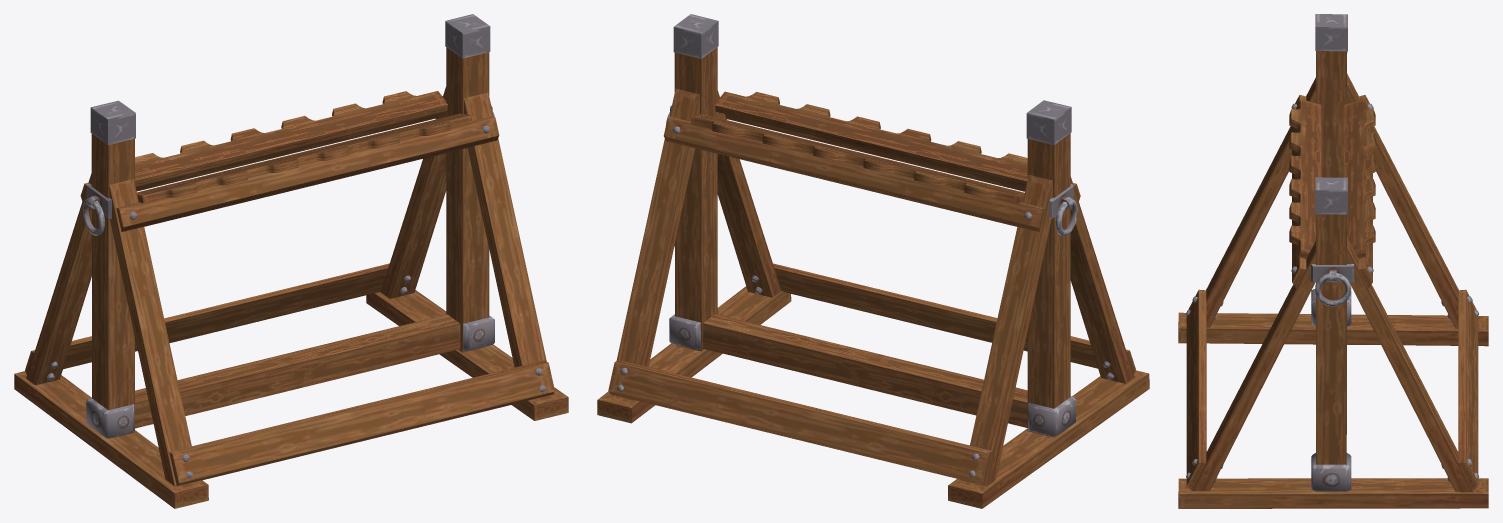
The model's file is weapon-stand.glb.
3 views of the same model, side by side, from view 1: azimuth 30°, elevation 25°; view 2: azimuth 150°, elevation 25°; view 3: azimuth 270°, elevation 25° (orthographic). The views are drawn at different scales.
Visible parts, largest first — view 1: WeaponStand; view 2: WeaponStand; view 3: WeaponStand.
Boxes of the visible parts, bbox=[...] form: WeaponStand: bbox=[14, 14, 568, 508]; WeaponStand: bbox=[597, 14, 1149, 508]; WeaponStand: bbox=[1178, 14, 1488, 508].
Bounding box in the file's own units: 1.39 × 1.11 × 0.9831.
Materials: 2 (2 with a texture image).
